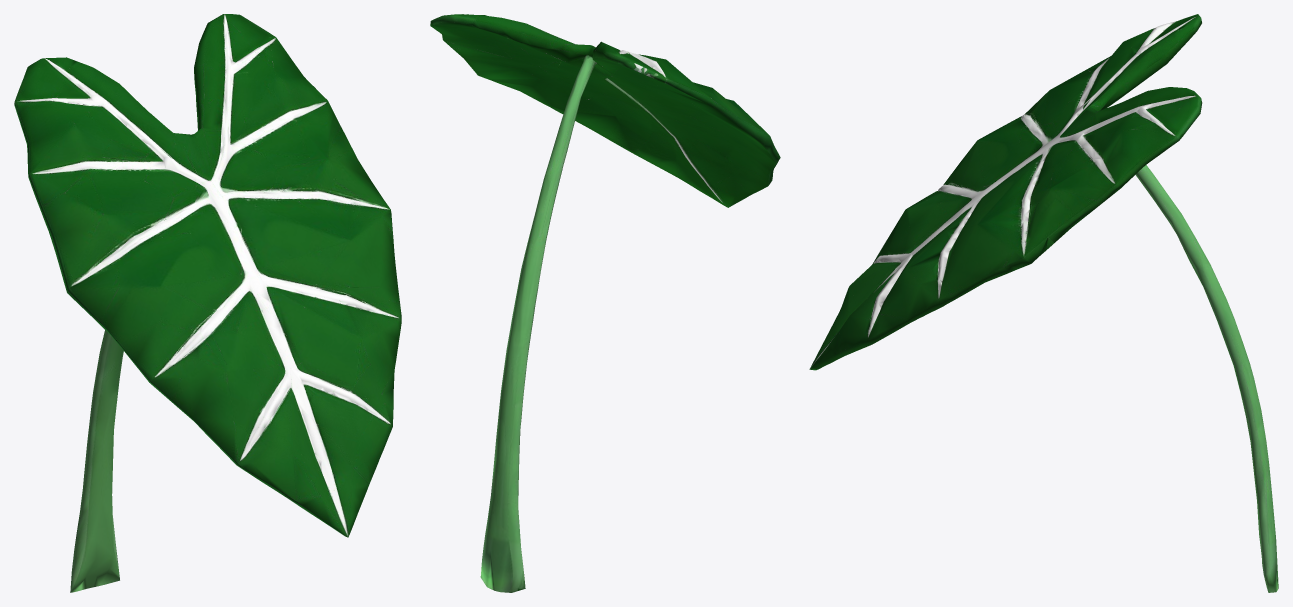
Rendered from al_leaf_mid.glb.
The picture shows the model from 3 angles, left to right: view 1: azimuth 30°, elevation 25°; view 2: azimuth 150°, elevation 25°; view 3: azimuth 270°, elevation 25°; orthographic projection. The views are drawn at different scales.
Size of the model in its own units: 1.09 by 1.9 by 1.52.
Materials: 1 (1 with a texture image).
